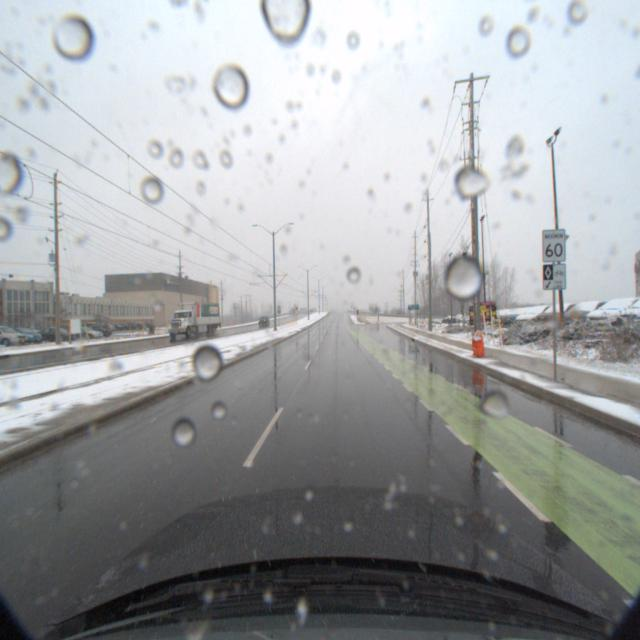Car: (546, 298, 624, 330), (506, 302, 566, 330)
Truck: (164, 299, 222, 337)
